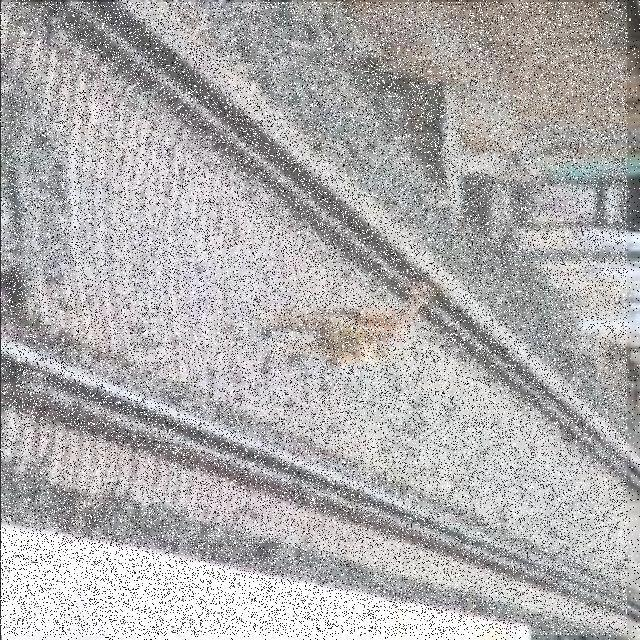rail: (3, 3, 628, 636)
